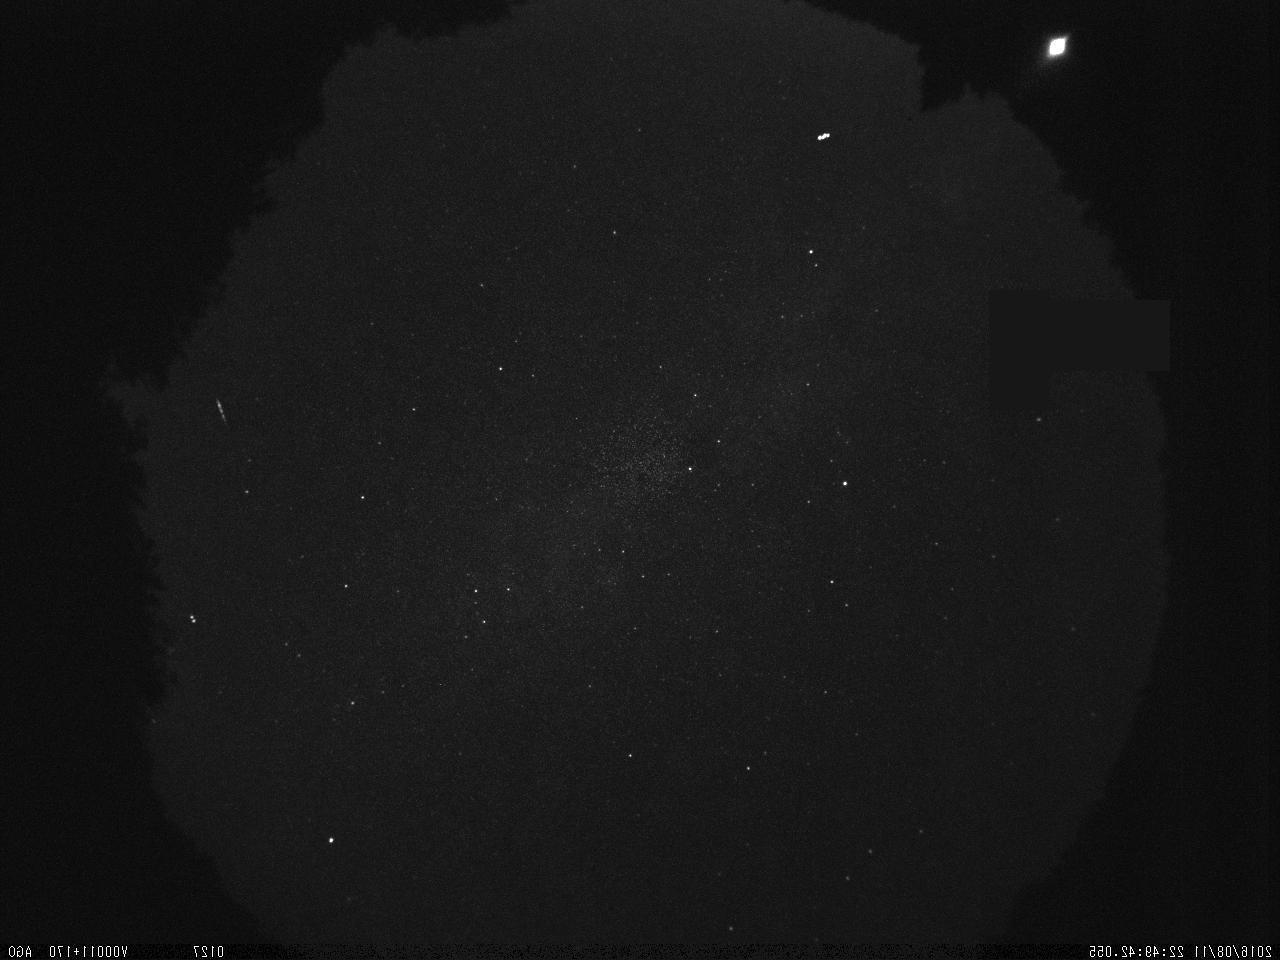meteor: (211, 391, 231, 434)
